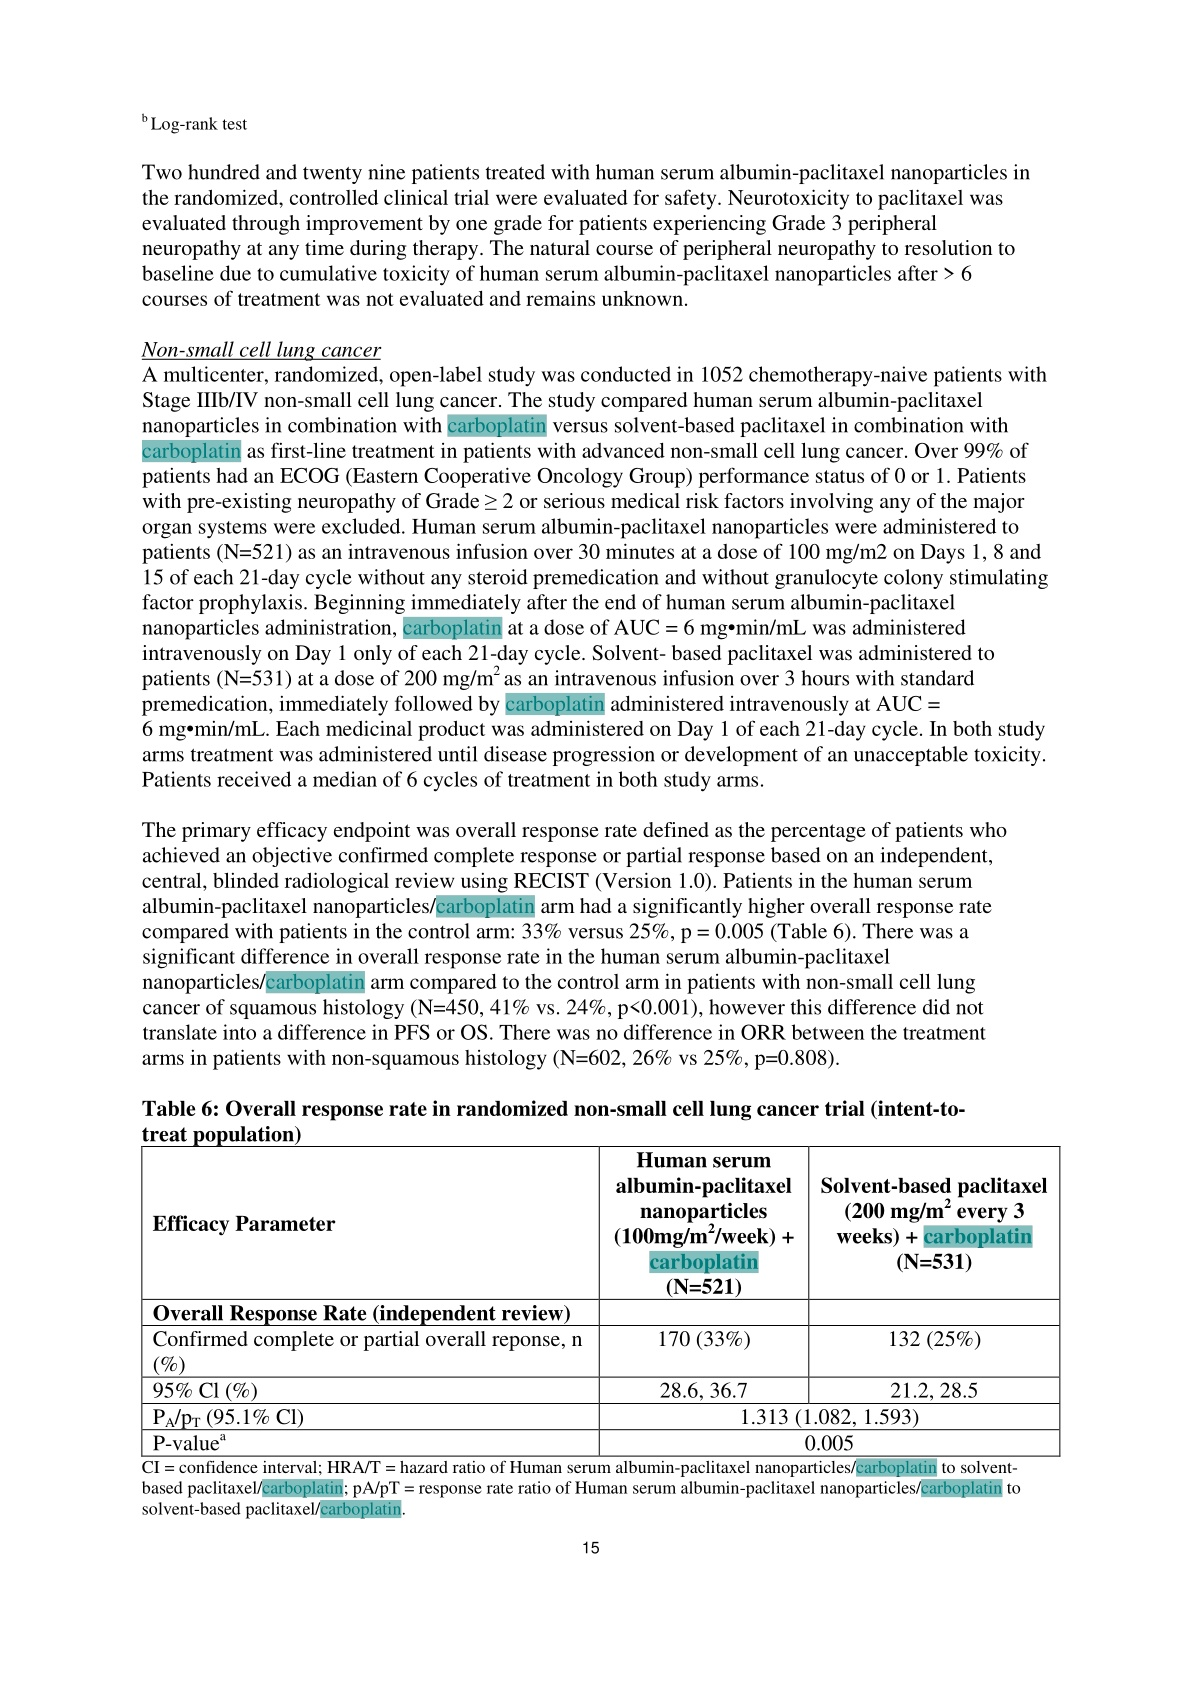merged_cells: (139, 1145, 1061, 1458)
